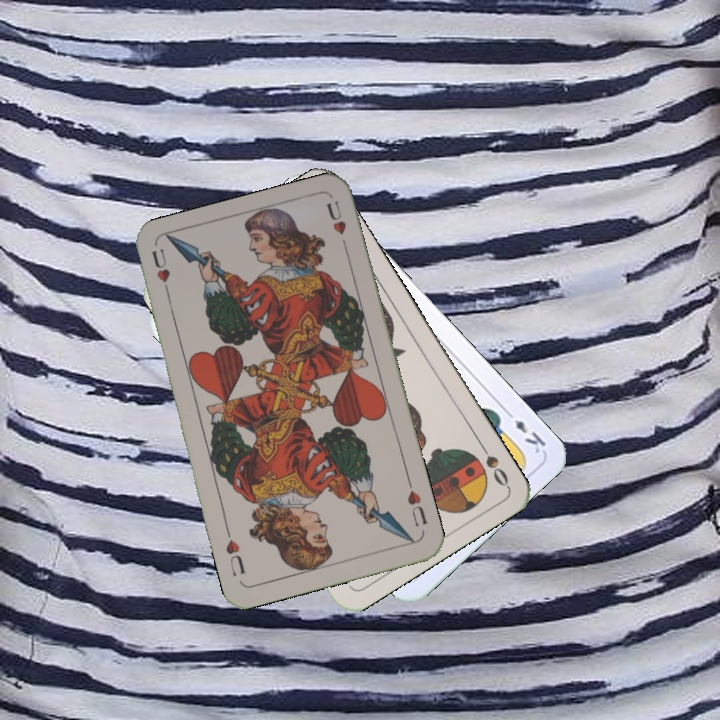EK: (501, 405, 549, 456)
HU: (147, 244, 174, 303), (403, 477, 430, 529)
SO: (473, 436, 512, 489)
